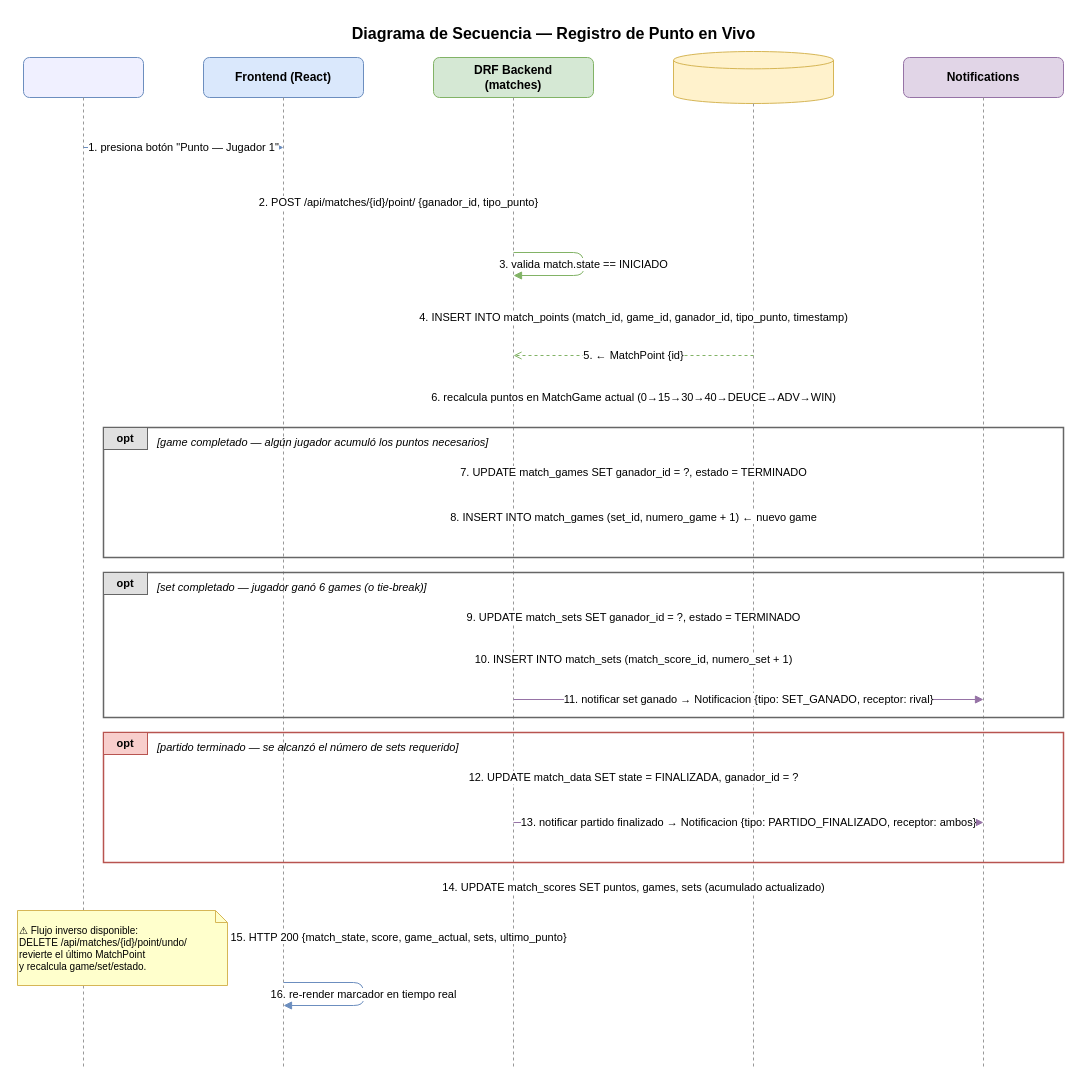
Image size: 1082x1086. Some labels were removed from this diagram. The centre of each missing label's shape, as x and y in pixels:
":Usuario" belongs at (x=83, y=77).
"BD (PostgreSQL)" belongs at (x=753, y=77).
